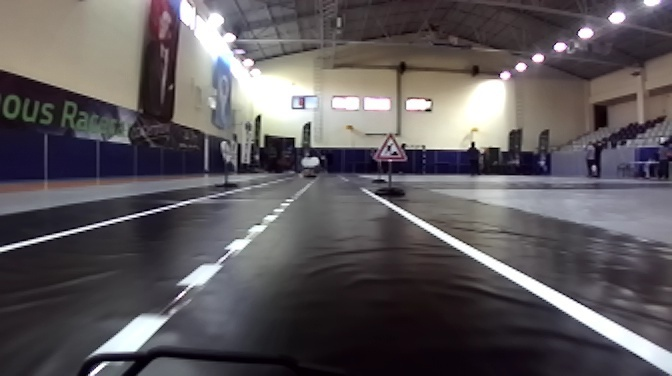yol_yapimi: (371, 133, 415, 160)
